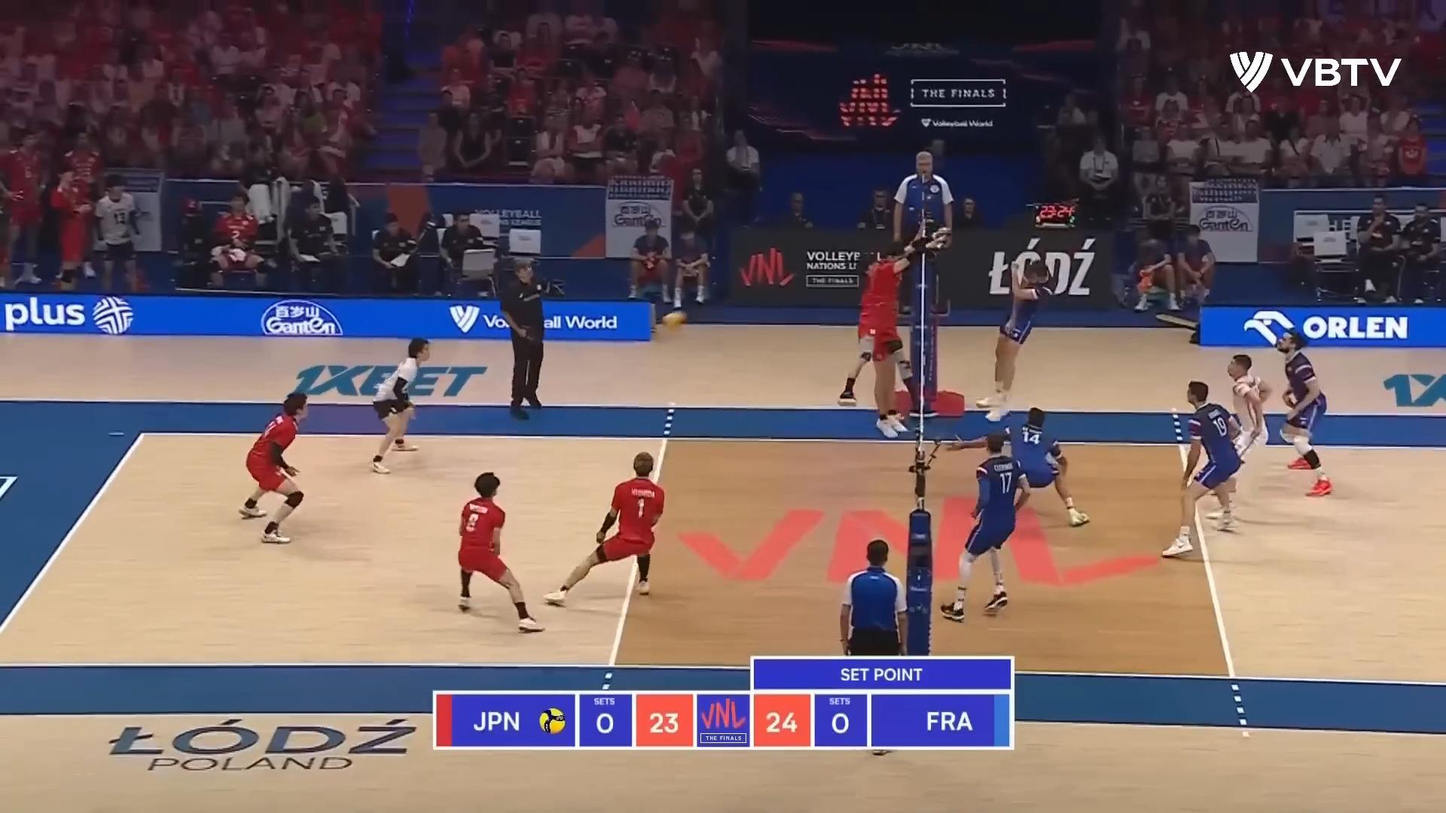ball: (662, 310, 688, 330)
